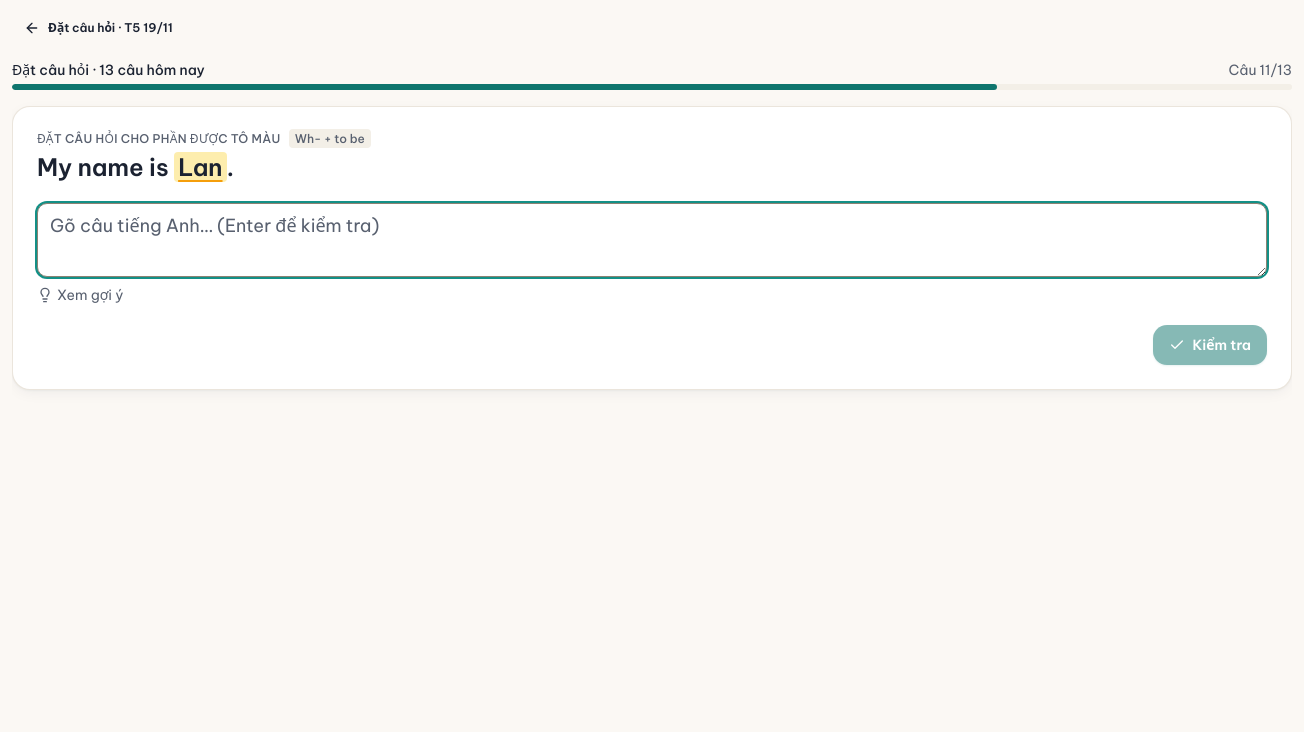
Test: QuestionsPage › shows 13 questions (10 everyday ones included, the part to ask about highlighted), saves the result and offers 5 more
The width and height of the screenshot is (1304, 732).
Earlier steps of the test are not shown.
Later steps or results of the test are not shown.
Expected: the text "Lan" is shown, [174,152,226,182]
In the text box named "Câu của bạn": (652, 240) [37,203,1267,277], type "What is your name?"
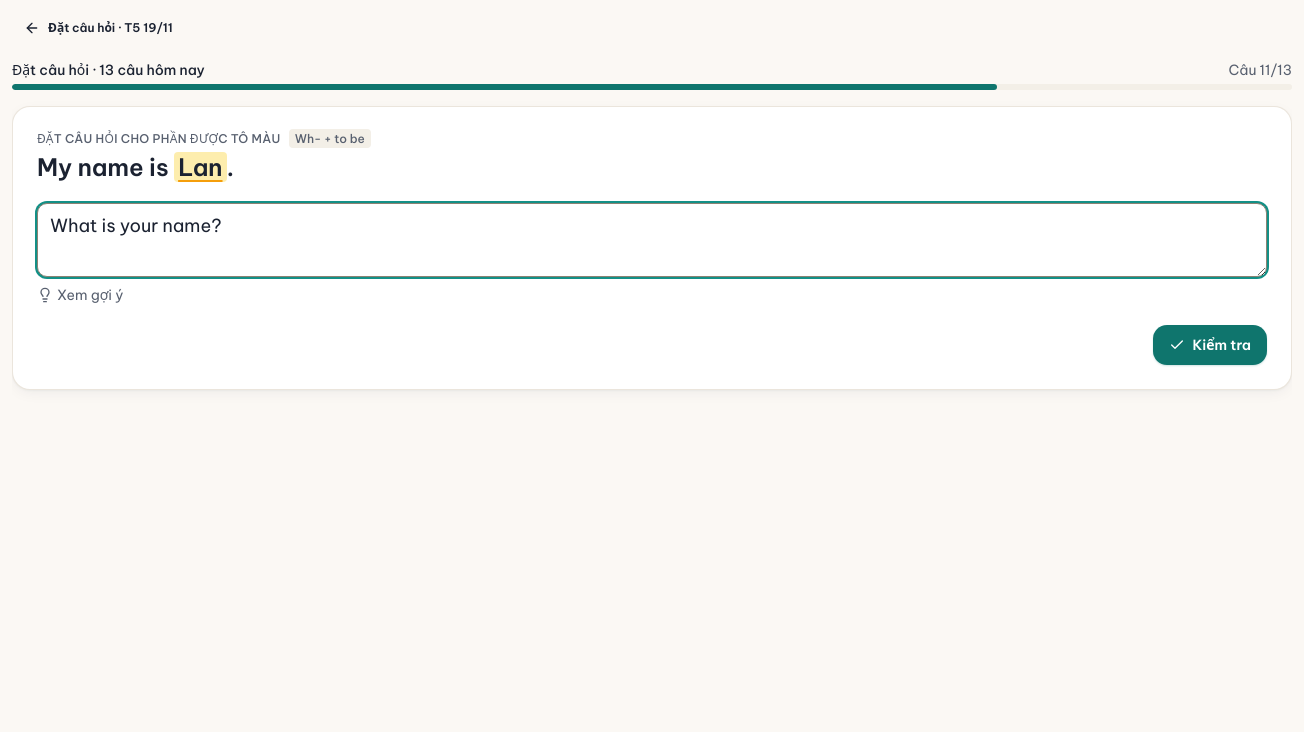
Click the button "Kiểm tra": (1210, 345) [1152,325,1267,365]
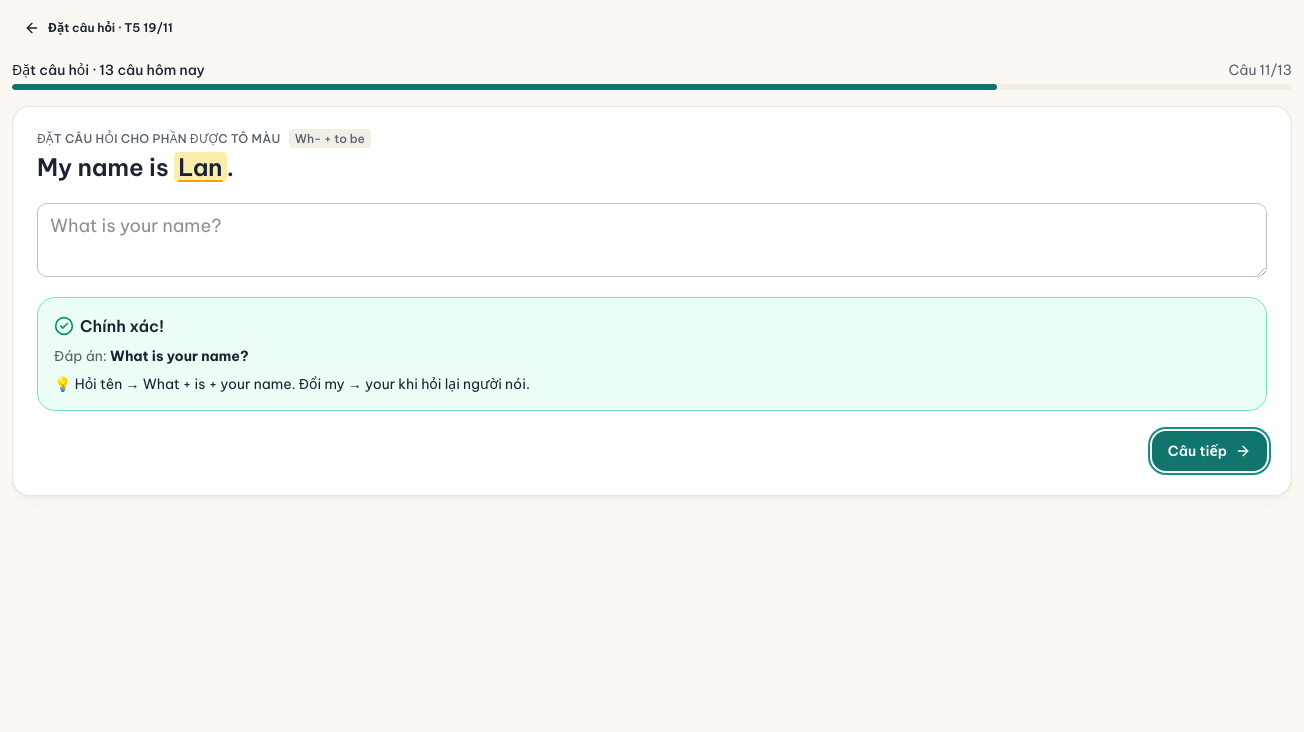
Click the button "Câu tiếp": (1209, 451) [1152,431,1267,471]
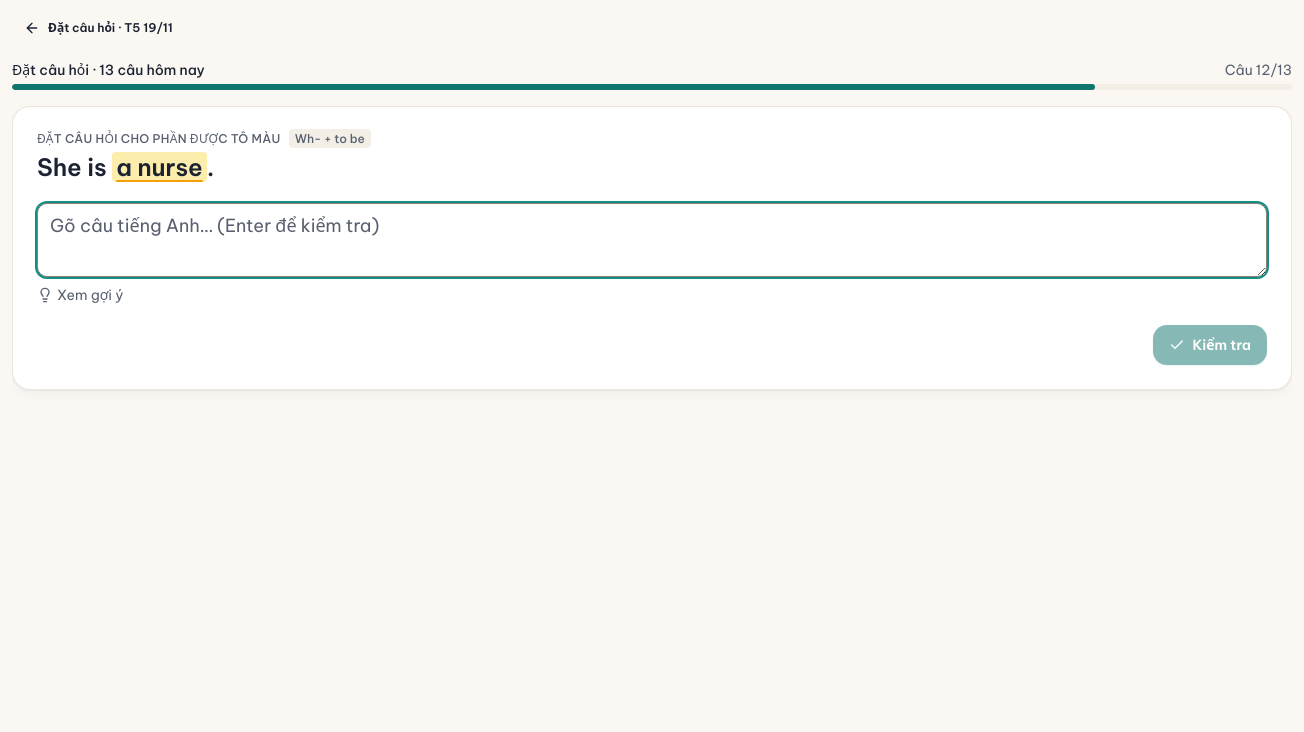
Now the text "a nurse" is shown, box [112,152,207,182]
In the text box named "Câu của bạn": (652, 240) [37,203,1267,277], type "What is she?"
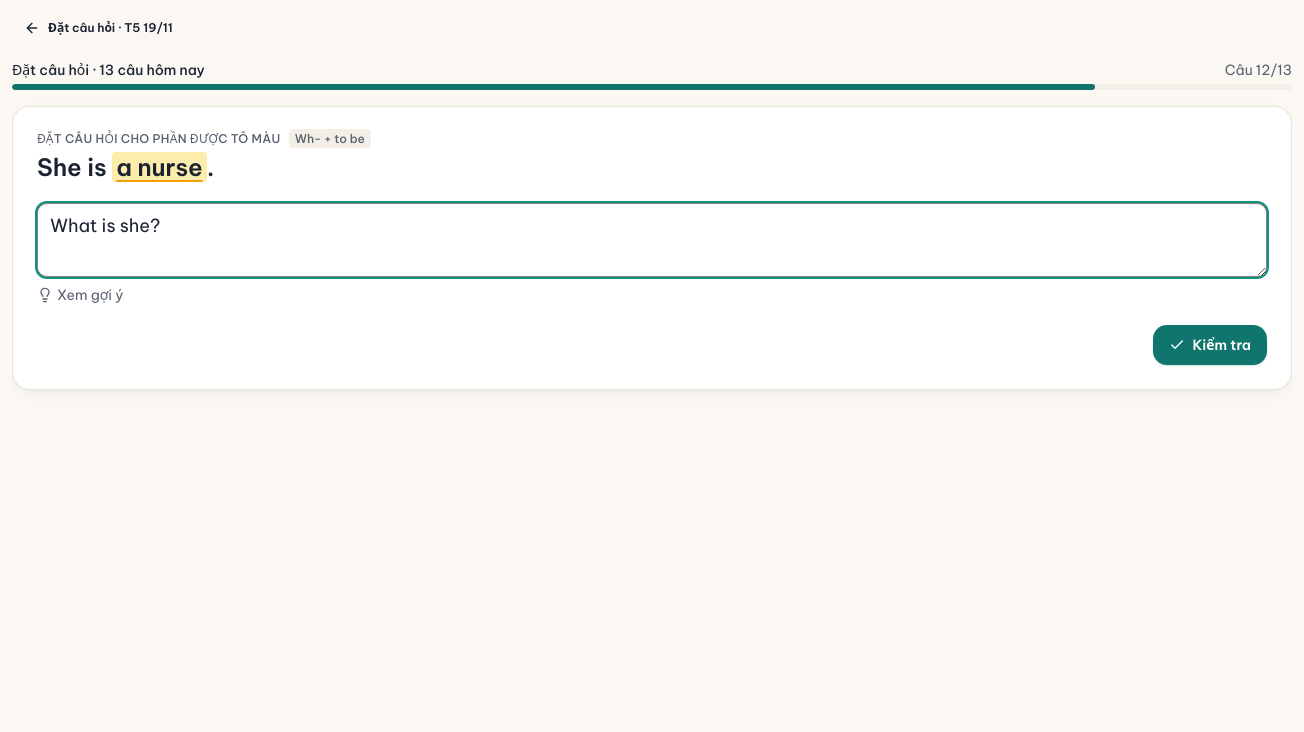
Click the button "Kiểm tra": (1210, 345) [1152,325,1267,365]
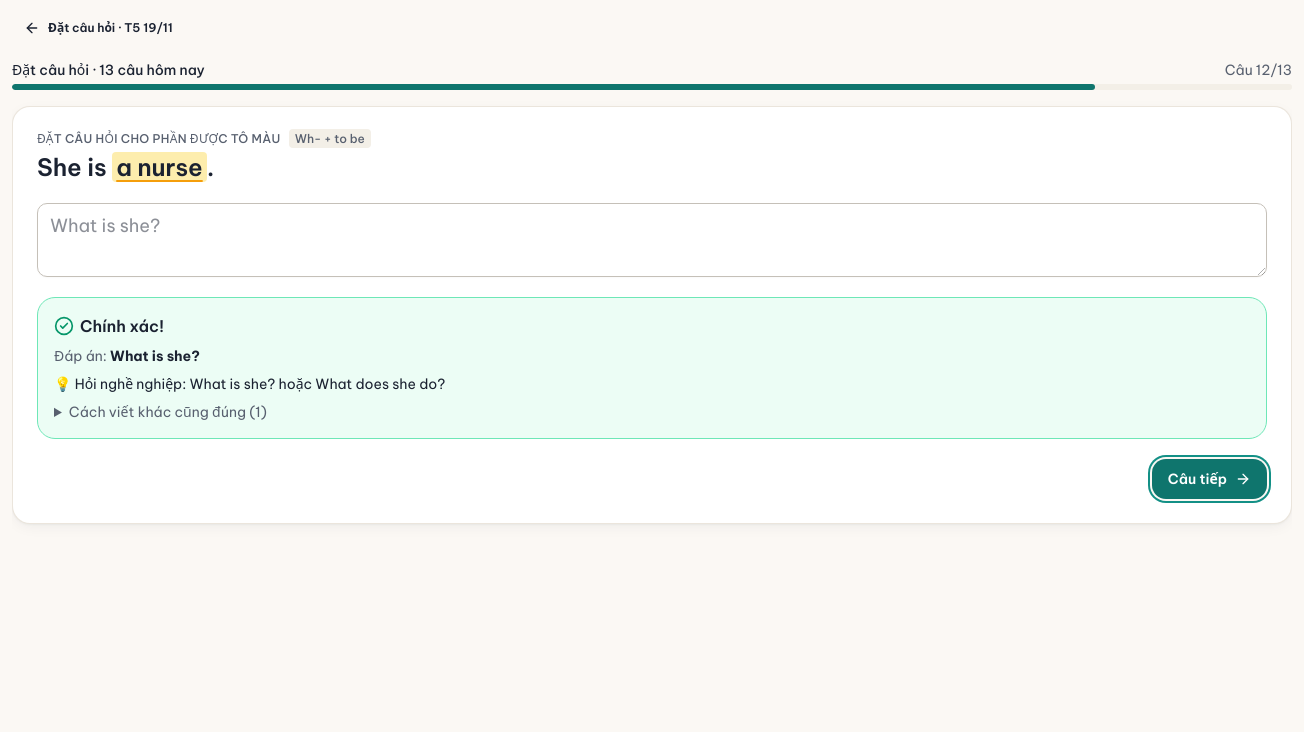
Click the button "Câu tiếp": (1209, 479) [1152,459,1267,499]
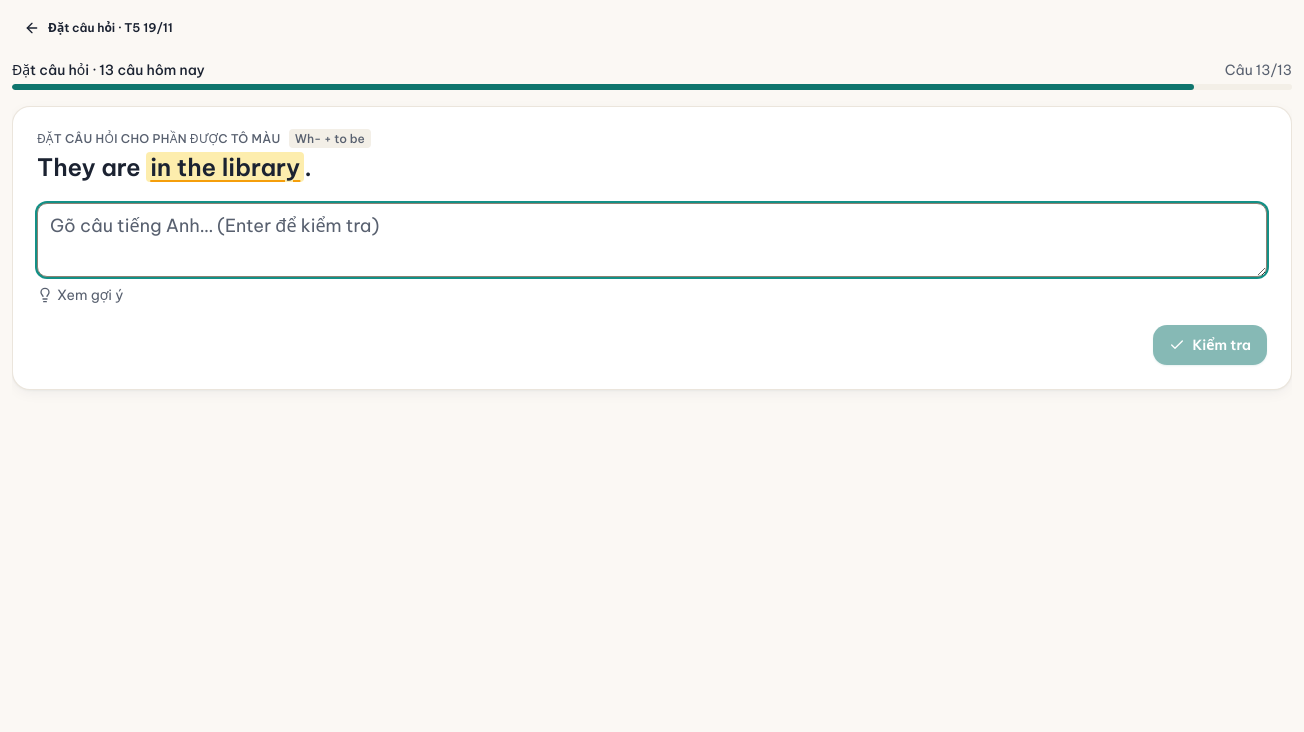
Now the text "in the library" is shown, box [146,152,304,182]
